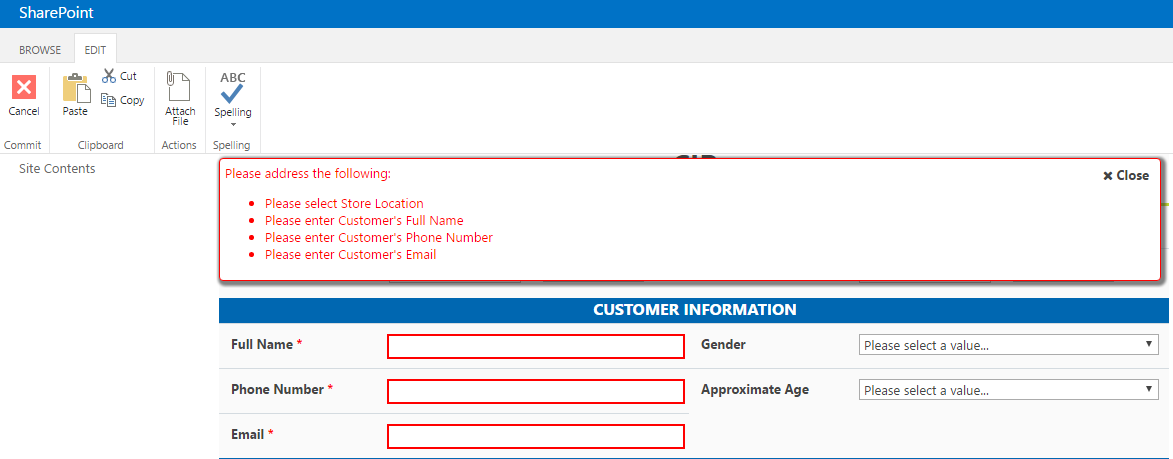error_field: (384, 332, 687, 360), (385, 422, 687, 450), (385, 378, 688, 405)
error_message: (261, 196, 497, 263), (222, 164, 394, 181)
